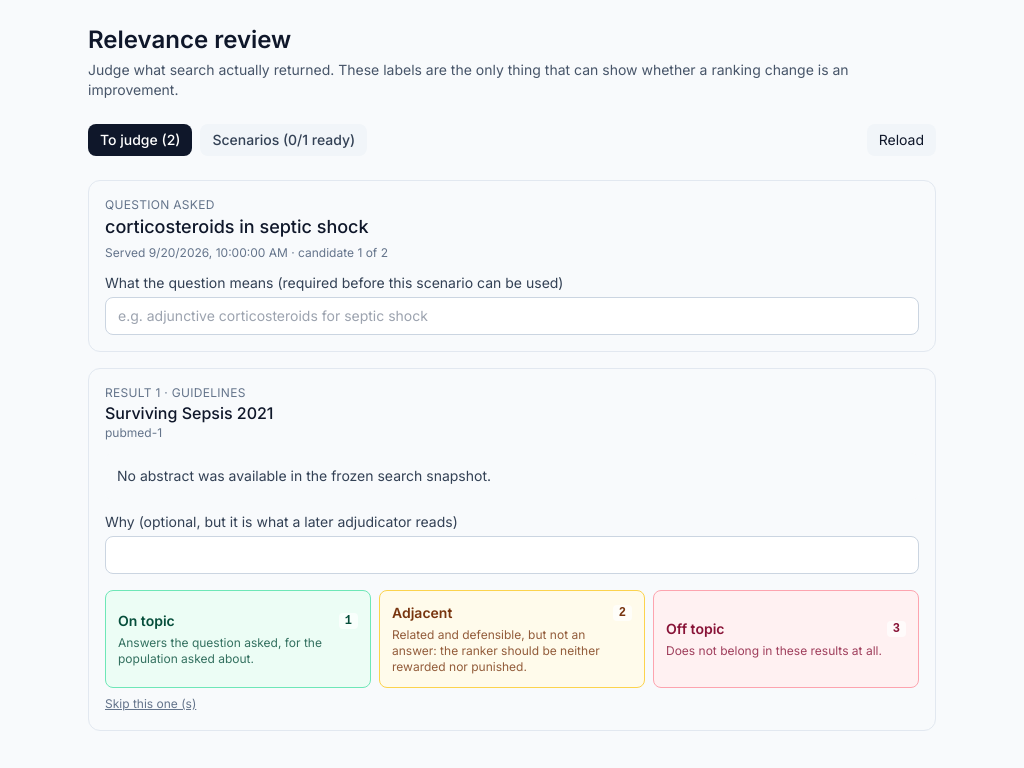
RelevanceReviewPage › the server's readiness verdict and reasons are shown, not recomputed
Click the button "Scenarios (0/1 ready)": (284, 140) [200, 124, 367, 156]
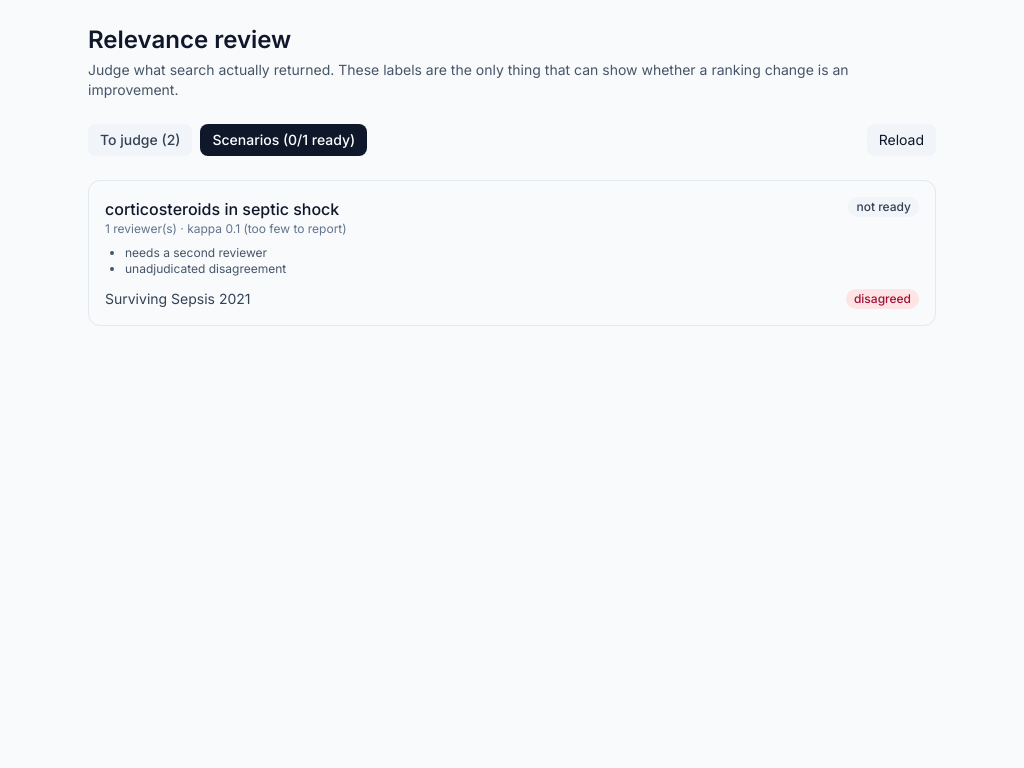
Expected: the text "not ready" is shown, [848, 197, 919, 217]
Expected: the list item "needs a second reviewer" is shown, [125, 245, 267, 260]
Expected: the list item "unadjudicated disagreement" is shown, [125, 261, 286, 276]
